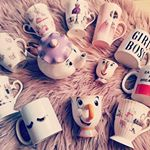cups: (12, 96, 64, 147), (107, 97, 149, 150), (91, 1, 129, 51), (113, 27, 150, 70), (18, 1, 59, 38), (63, 1, 98, 40), (1, 31, 31, 74), (120, 65, 150, 106), (1, 73, 25, 117)
